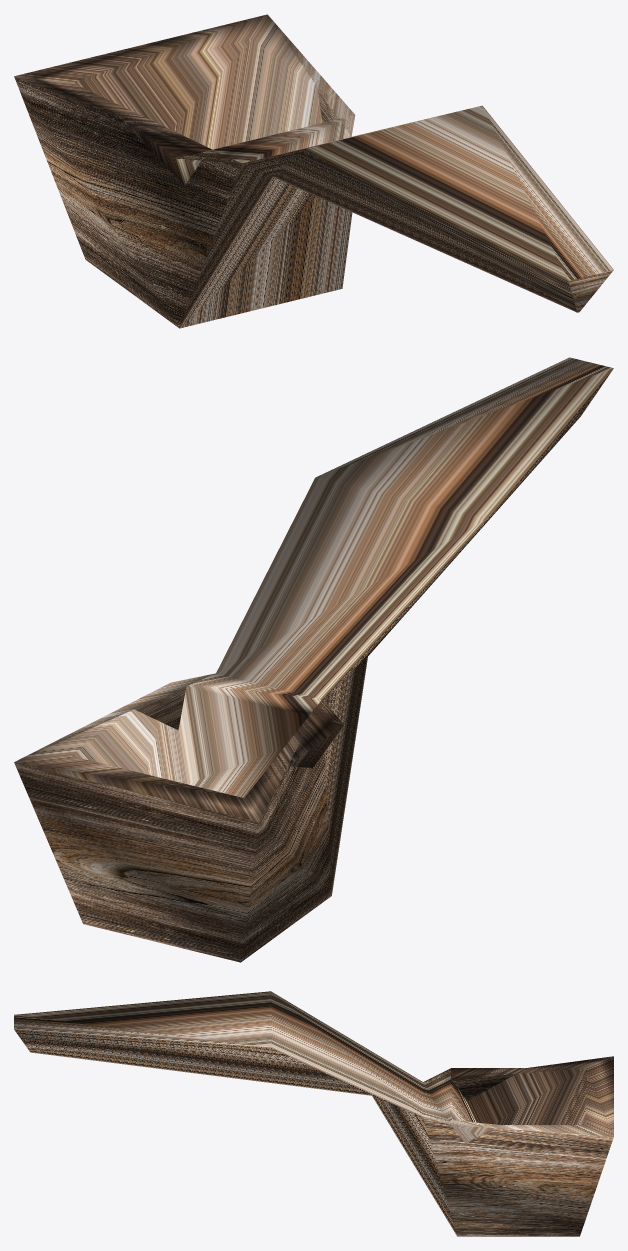
The model's file is Pipa.glb.
3 renders of one model, top to bottom at view 1: azimuth 30°, elevation 25°; view 2: azimuth 150°, elevation 25°; view 3: azimuth 270°, elevation 25°, orthographic. The views are drawn at different scales.
Visible parts, largest first — view 1: Cube; view 2: Cube; view 3: Cube.
Part boxes in pixels (x1,y1,x2,y2): Cube: (14, 14, 613, 328); Cube: (14, 357, 613, 962); Cube: (14, 991, 613, 1236).
Size of the model in its own units: 0.5332 by 0.5799 by 1.68.
2 materials, 2 textured.
